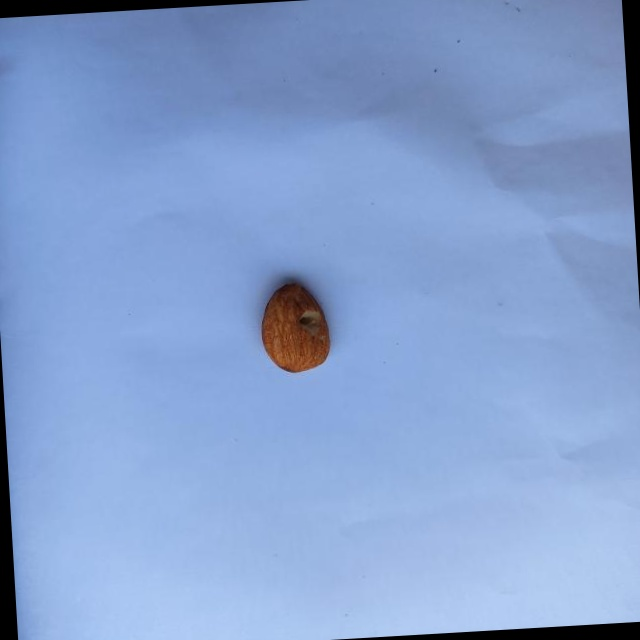grade3: (257, 276, 337, 379)
